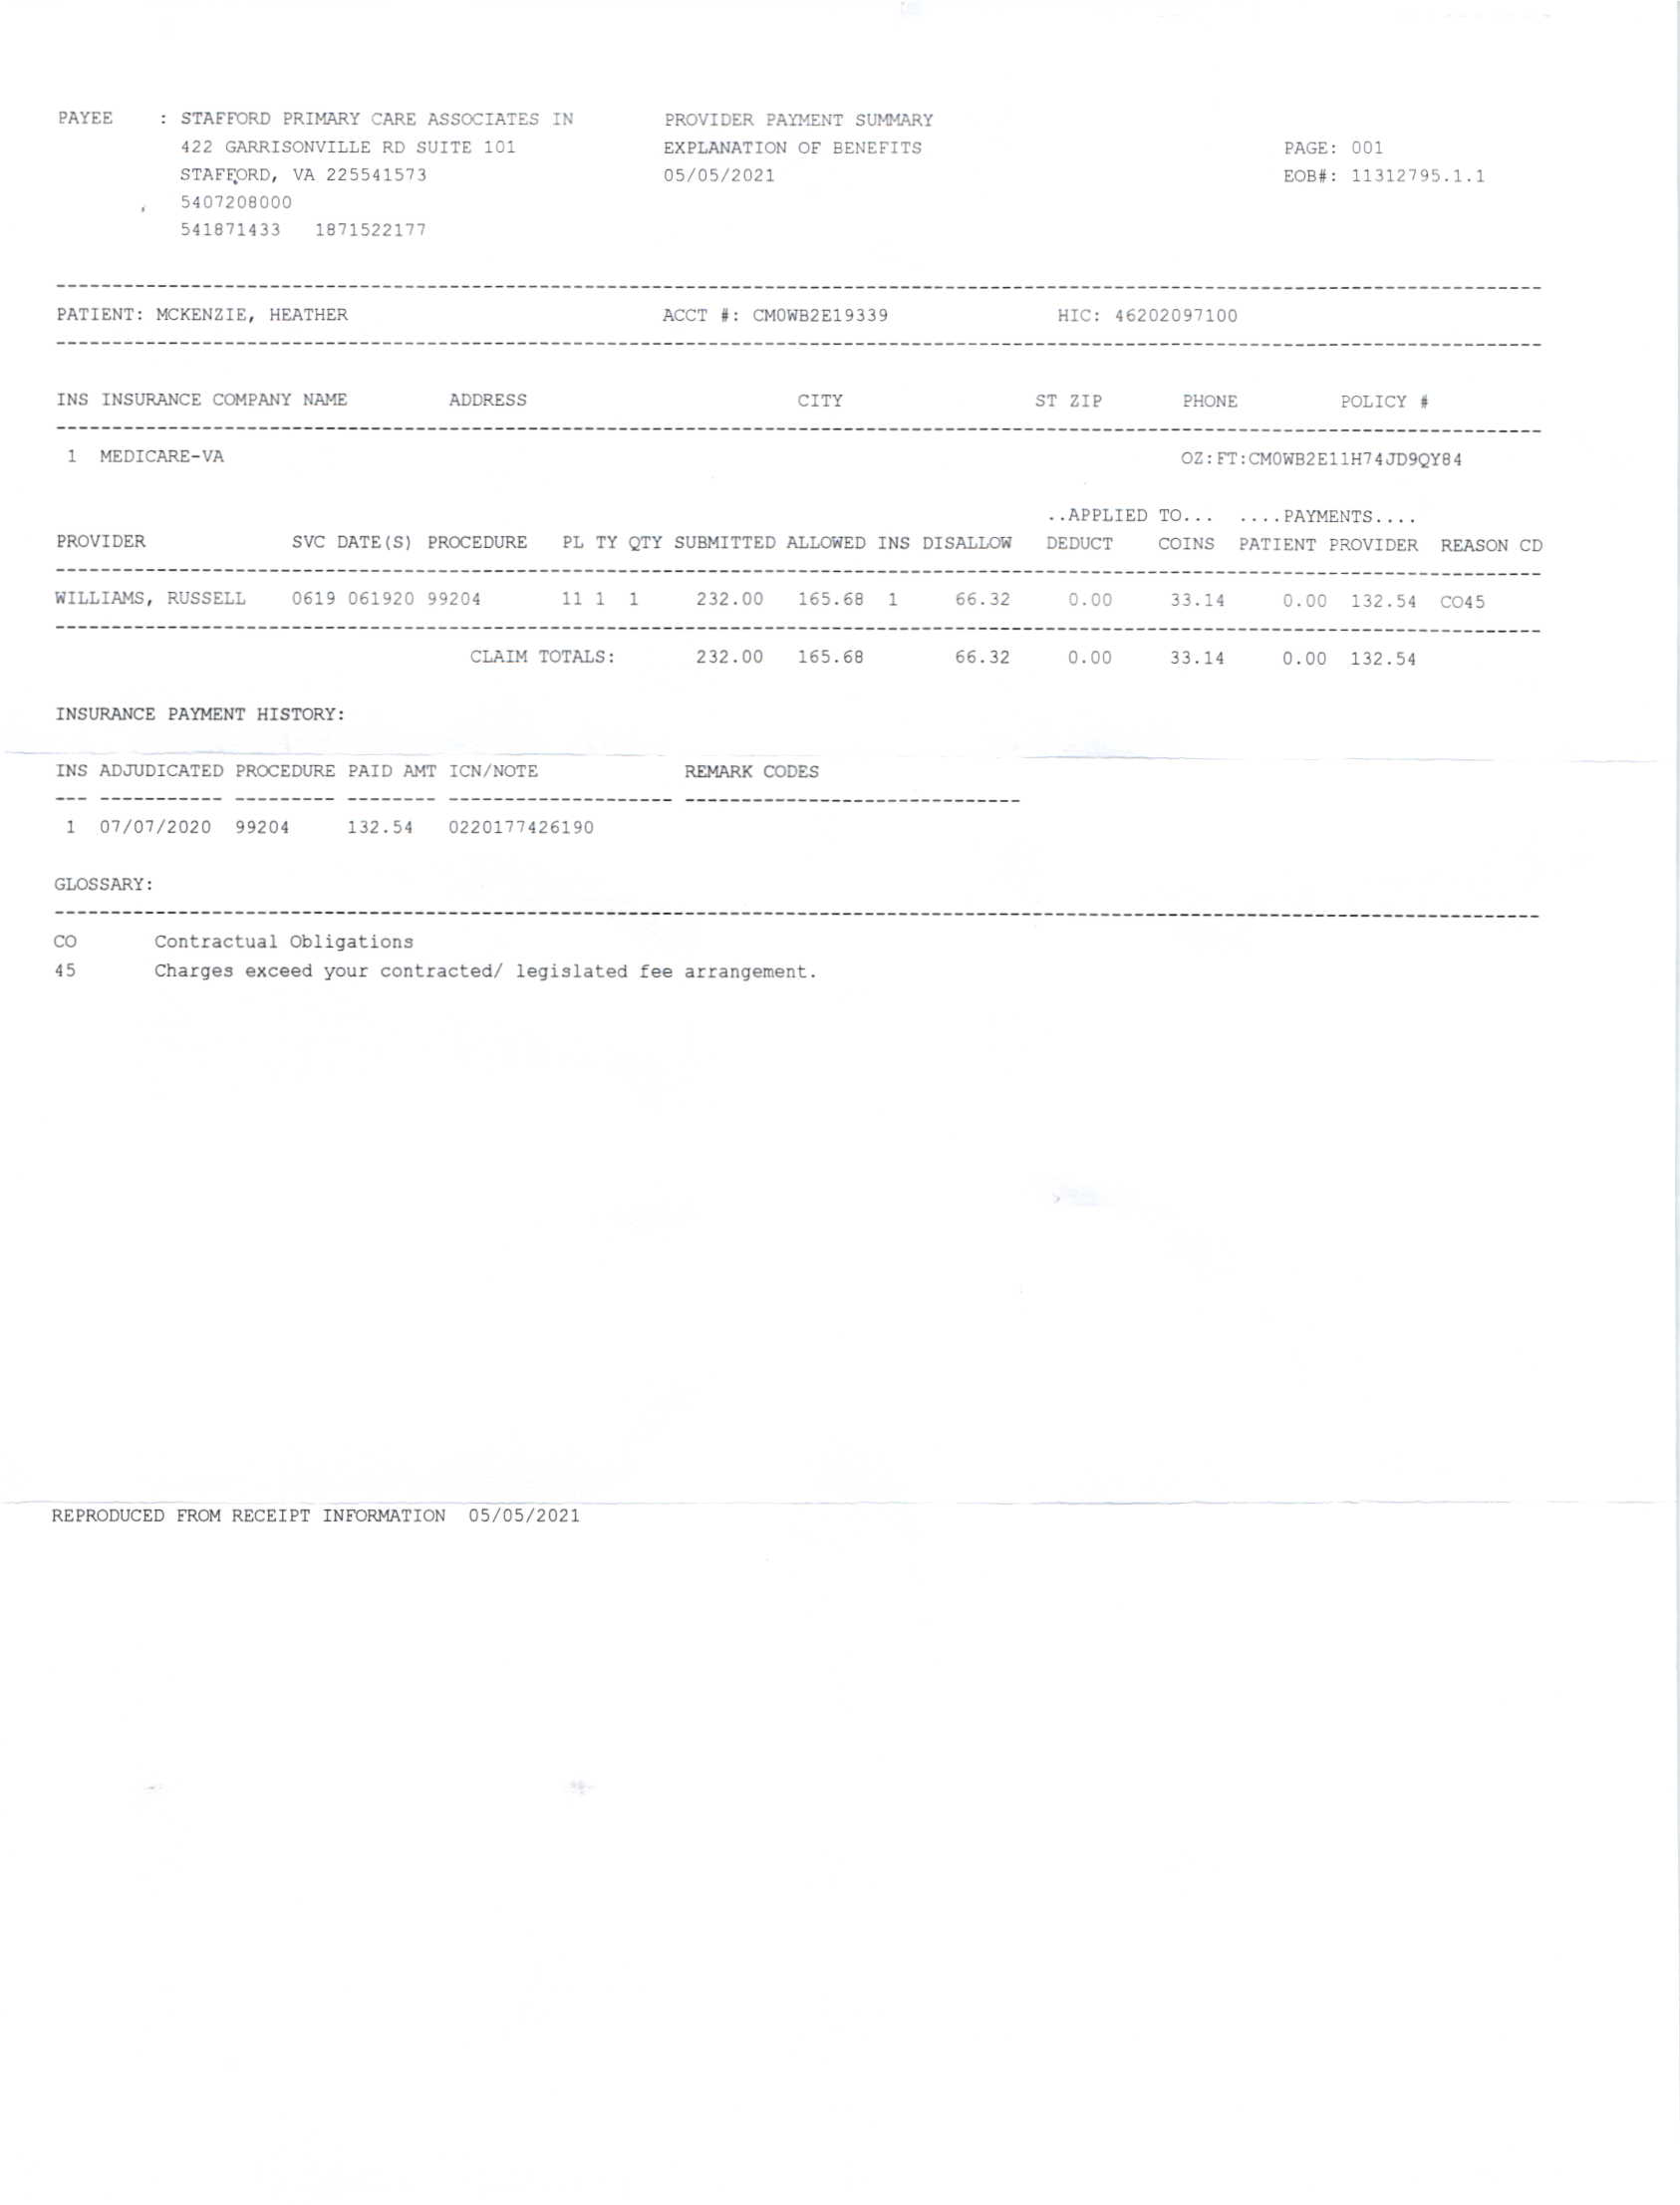data: (49, 88, 584, 247), (637, 97, 946, 205), (1260, 113, 1519, 217)
table: (51, 515, 1569, 695), (46, 374, 1553, 496), (41, 268, 1555, 360)
